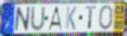A: (47, 5, 63, 31)
K: (65, 6, 78, 32)
N: (14, 6, 32, 33)
O: (98, 4, 114, 31)
T: (85, 6, 98, 31)
U: (29, 5, 46, 33)
